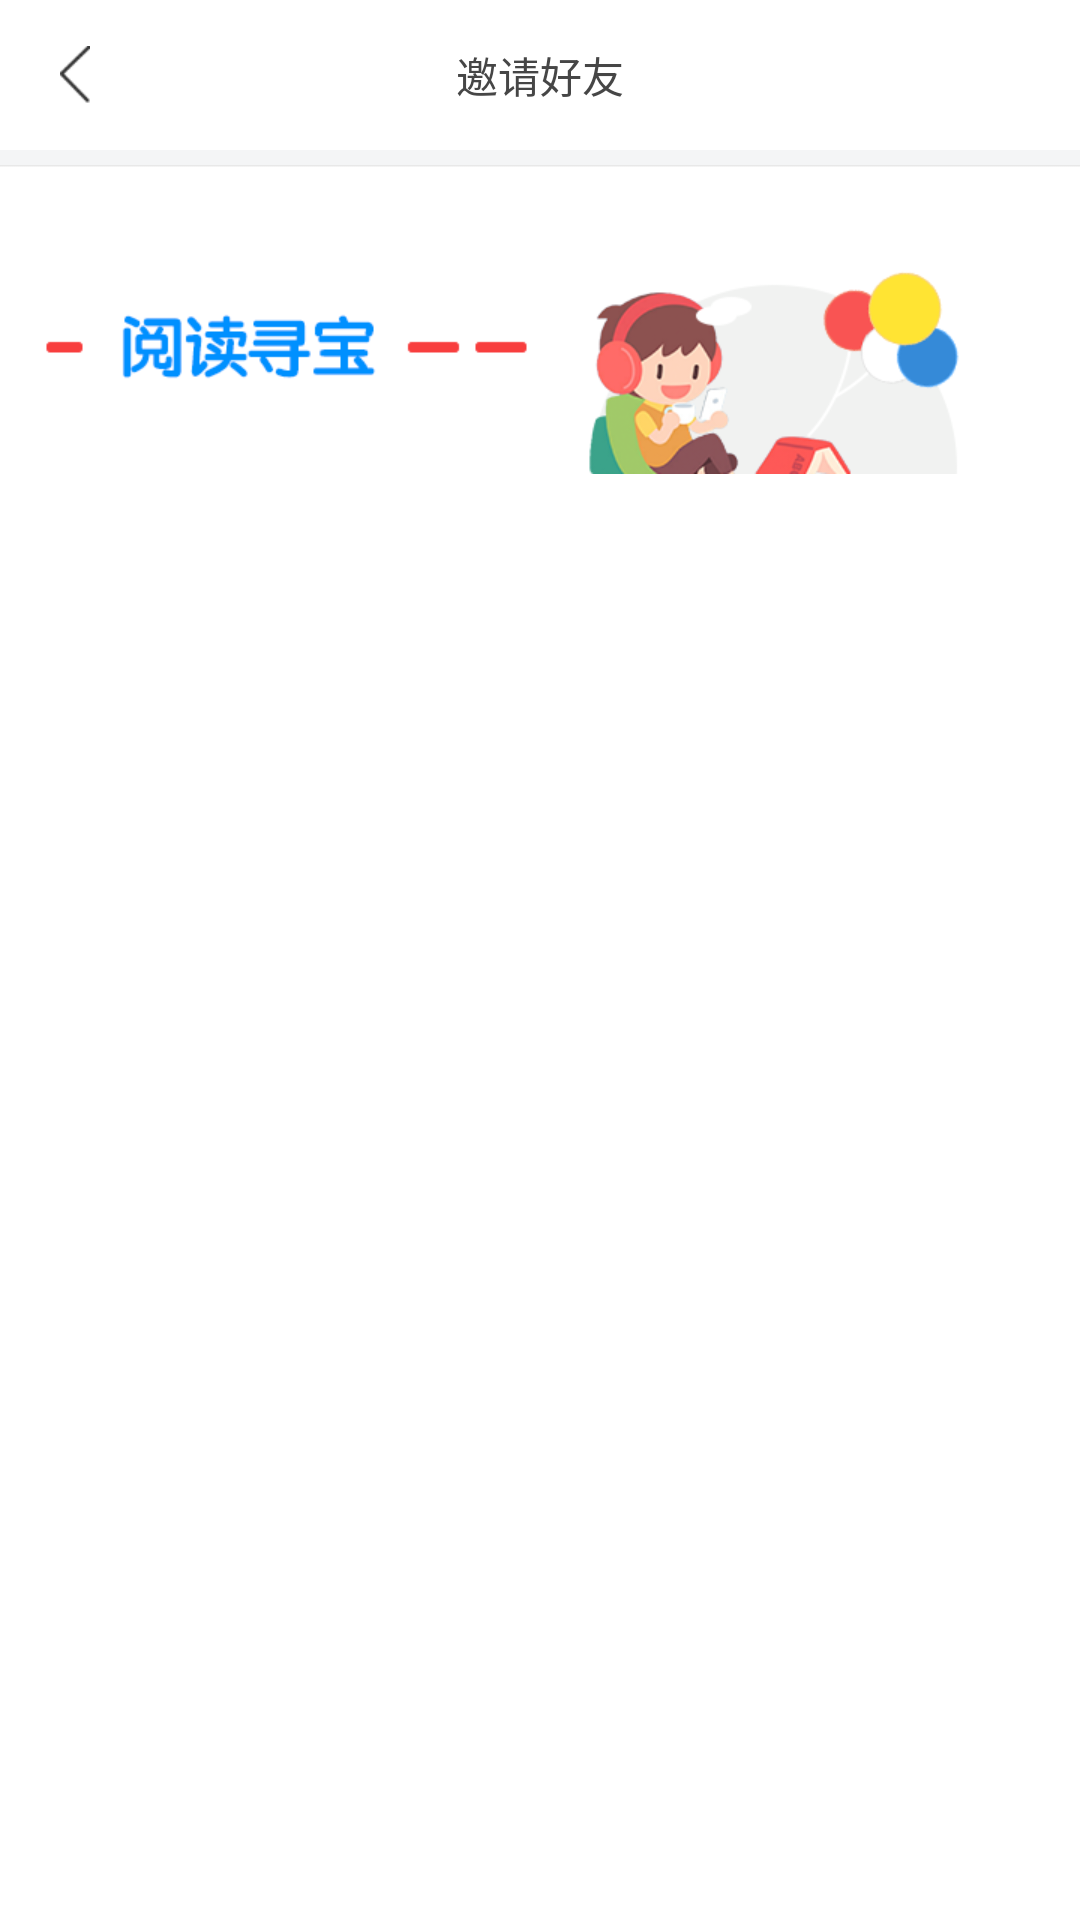

Point at icon controls on the screen. Image size 1080px x 1920px, points as (x=x, y=y).
back: (x=75, y=74)
